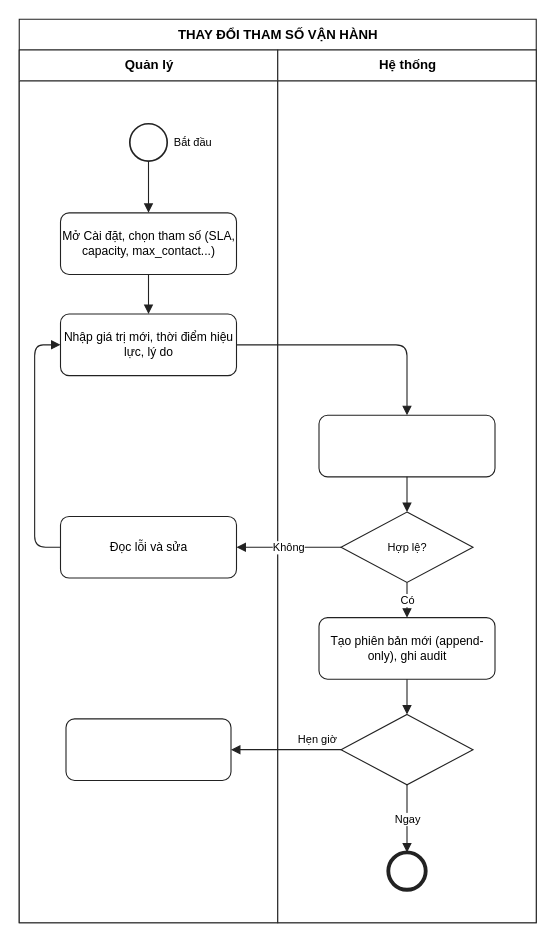
The diagram is 556 pixels wide and 943 high, and some of its shapes have lost their labels. Here are the shapes that lost their labels. From the top down, the box of each, then its label:
(318, 414, 495, 477): Kiểm tra miền giá trị và ràng buộc (capacity_warn < capacity)
(65, 718, 231, 780): Theo dõi lịch hẹn; tự áp dụng khi tới giờ
(340, 713, 473, 785): Hiệu lực ngay?
(386, 850, 427, 891): Kết thúc
